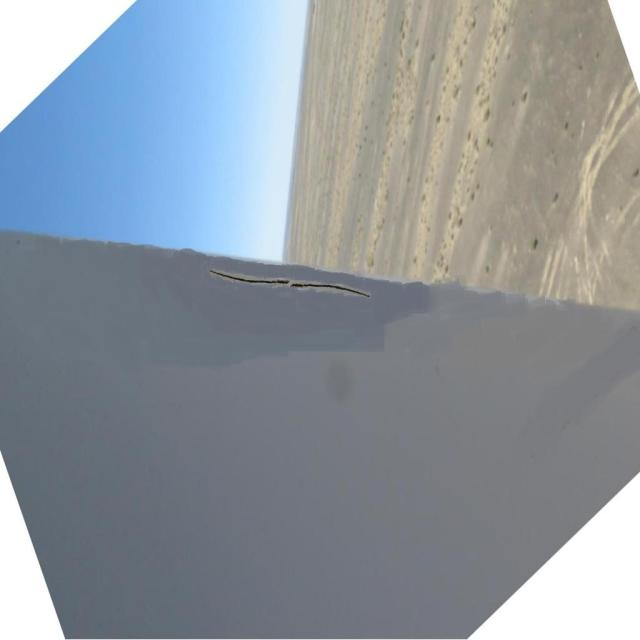crack: (206, 265, 372, 300)
